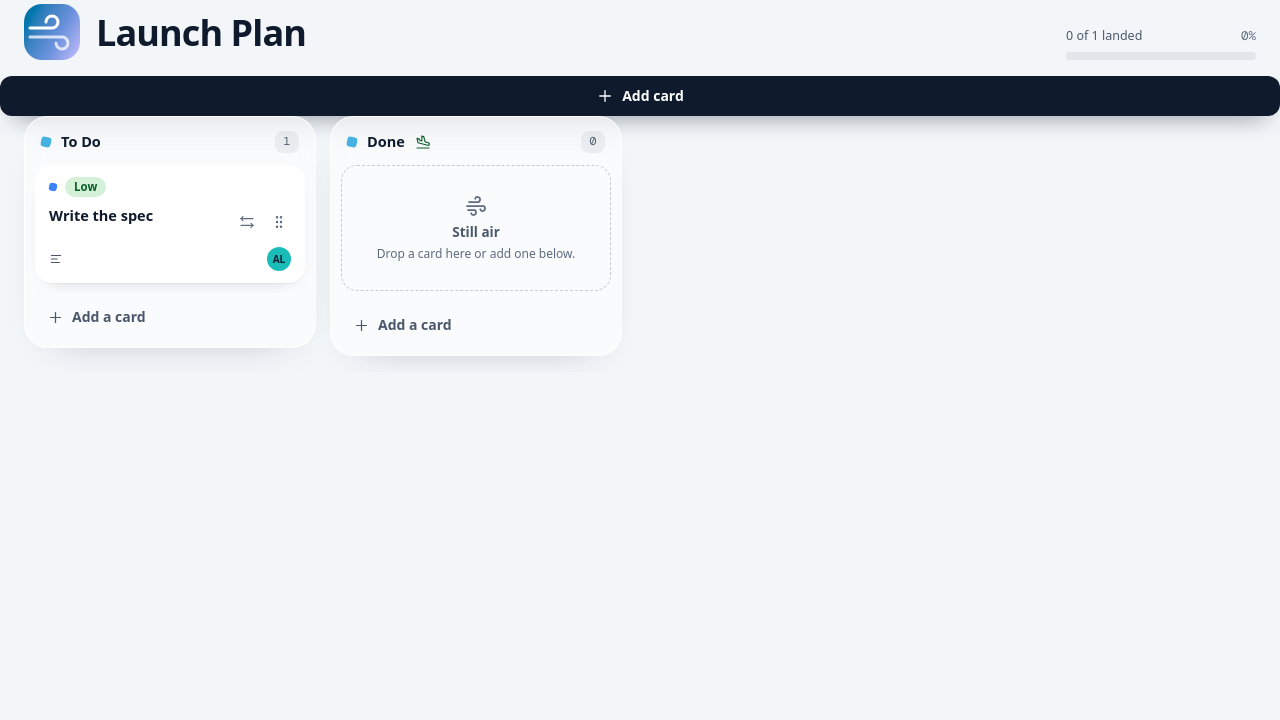
Test: Board page adding and saving a task › through the modal, for a card that exists › saves the edit and closes the modal when the server accepts it
Click the button "Write the spec": click(101, 216) 47,204 -> 155,228
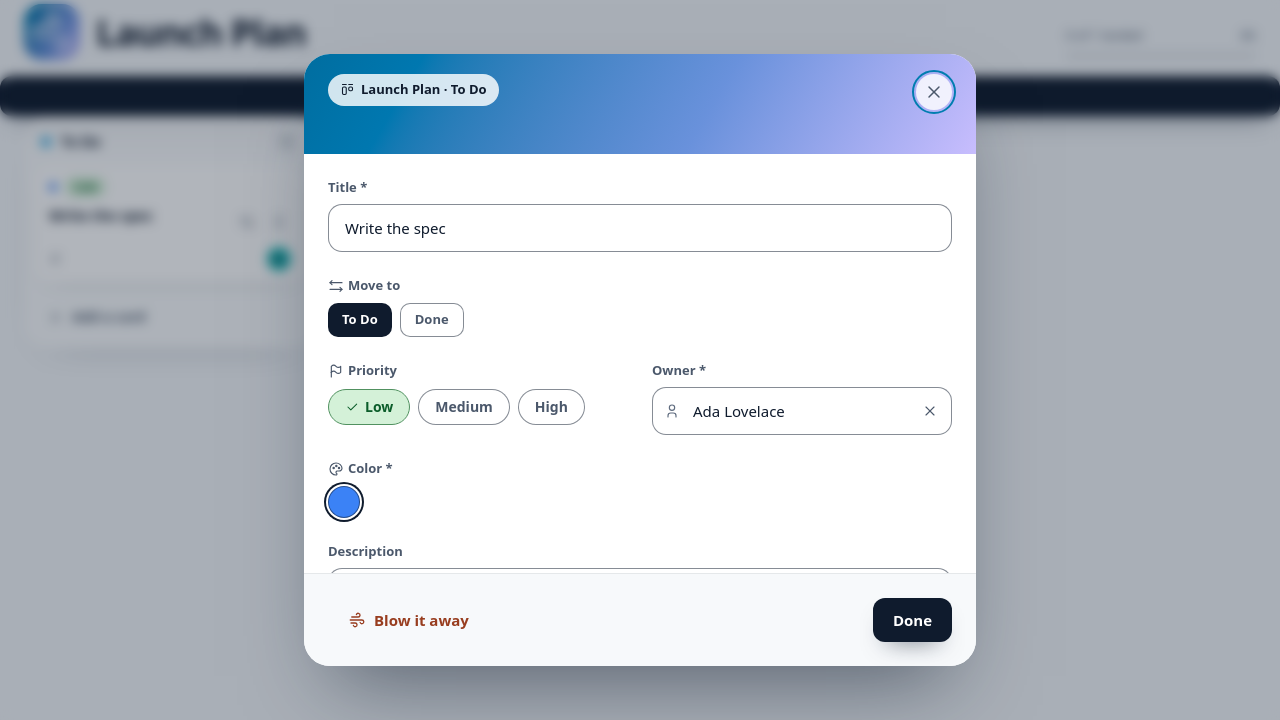
Expected: the dialog is shown, 304,54 -> 976,666
Expected: the radio button named "Blue" is shown, 328,486 -> 360,518
Replace the text in the field with placeholder "Enter task title" with "Write the release notes": (640, 228) 328,204 -> 952,252
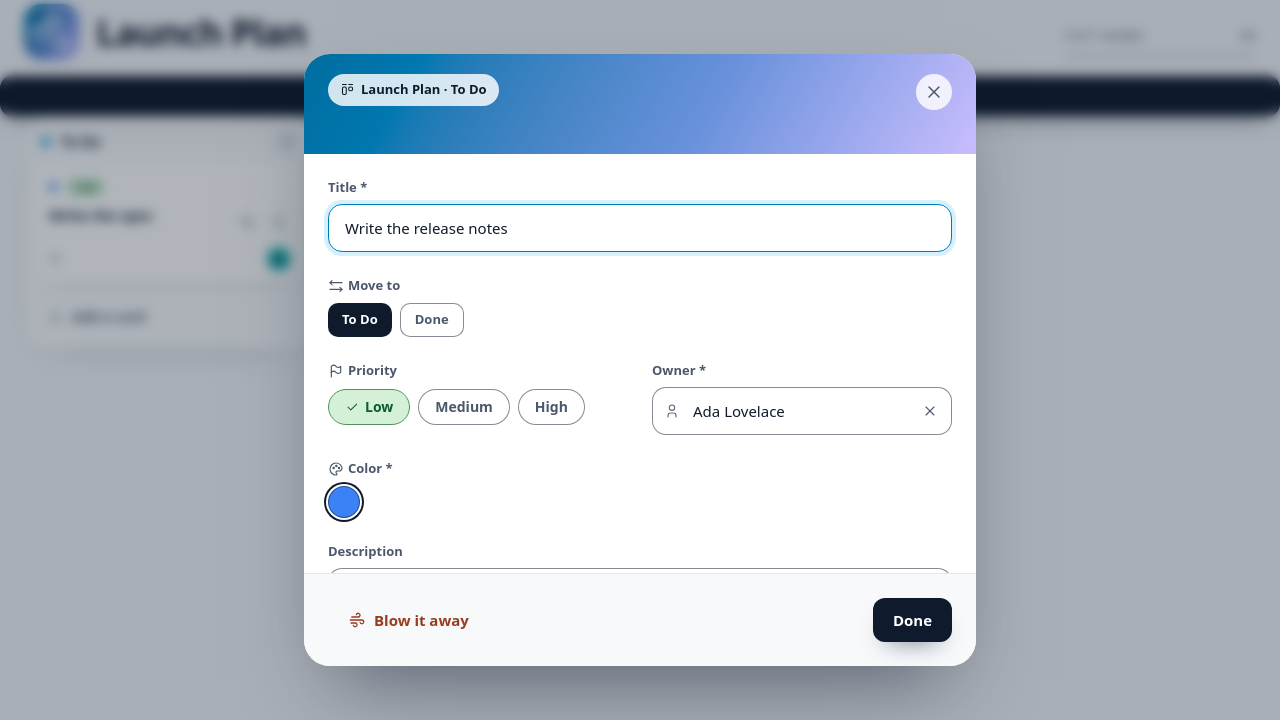
Click the 2nd button "Done": click(912, 620) 873,598 -> 952,642
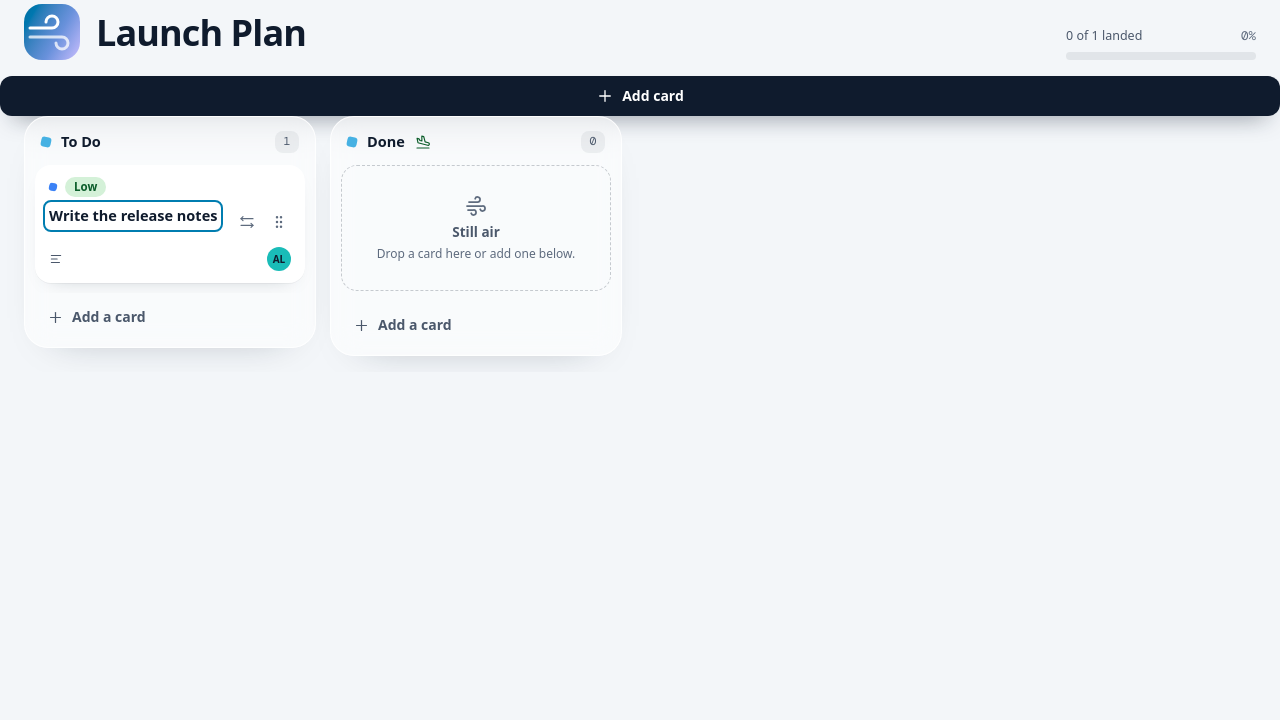
Expected: the dialog is gone
Expected: the button "Write the release notes" is shown, 47,204 -> 219,228
